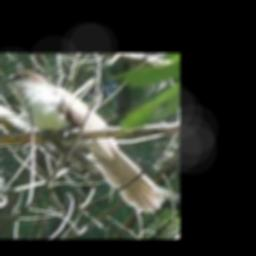Cuckoo: (0, 71, 164, 212)
